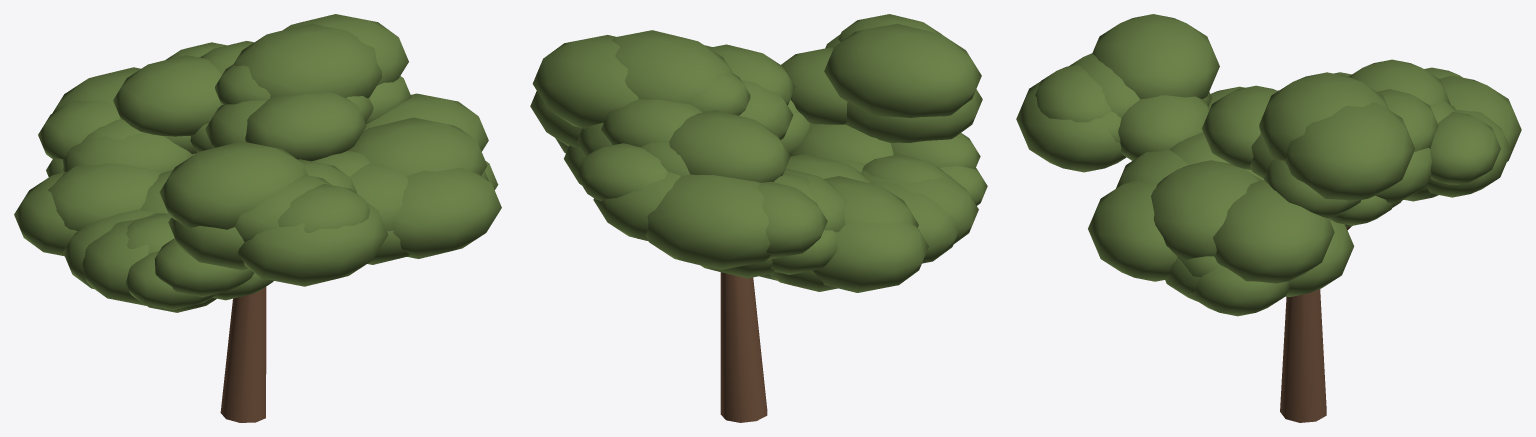
Rendered from coastal-oak.glb.
3 views of the same model, side by side, from view 1: azimuth 30°, elevation 25°; view 2: azimuth 150°, elevation 25°; view 3: azimuth 270°, elevation 25° (orthographic). The views are drawn at different scales.
Parts seen in each view (by area): view 1: Foliage, Trunk; view 2: Foliage, Trunk; view 3: Foliage, Trunk.
Part boxes in pixels (box(x1,y1,x2,y2)): Foliage: box(14, 14, 501, 312); Trunk: box(220, 287, 266, 422); Foliage: box(530, 14, 987, 292); Trunk: box(720, 272, 767, 422); Foliage: box(1016, 14, 1521, 316); Trunk: box(1280, 226, 1351, 422).
Bounding box in the file's own units: 7.84 × 6.35 × 7.99.
